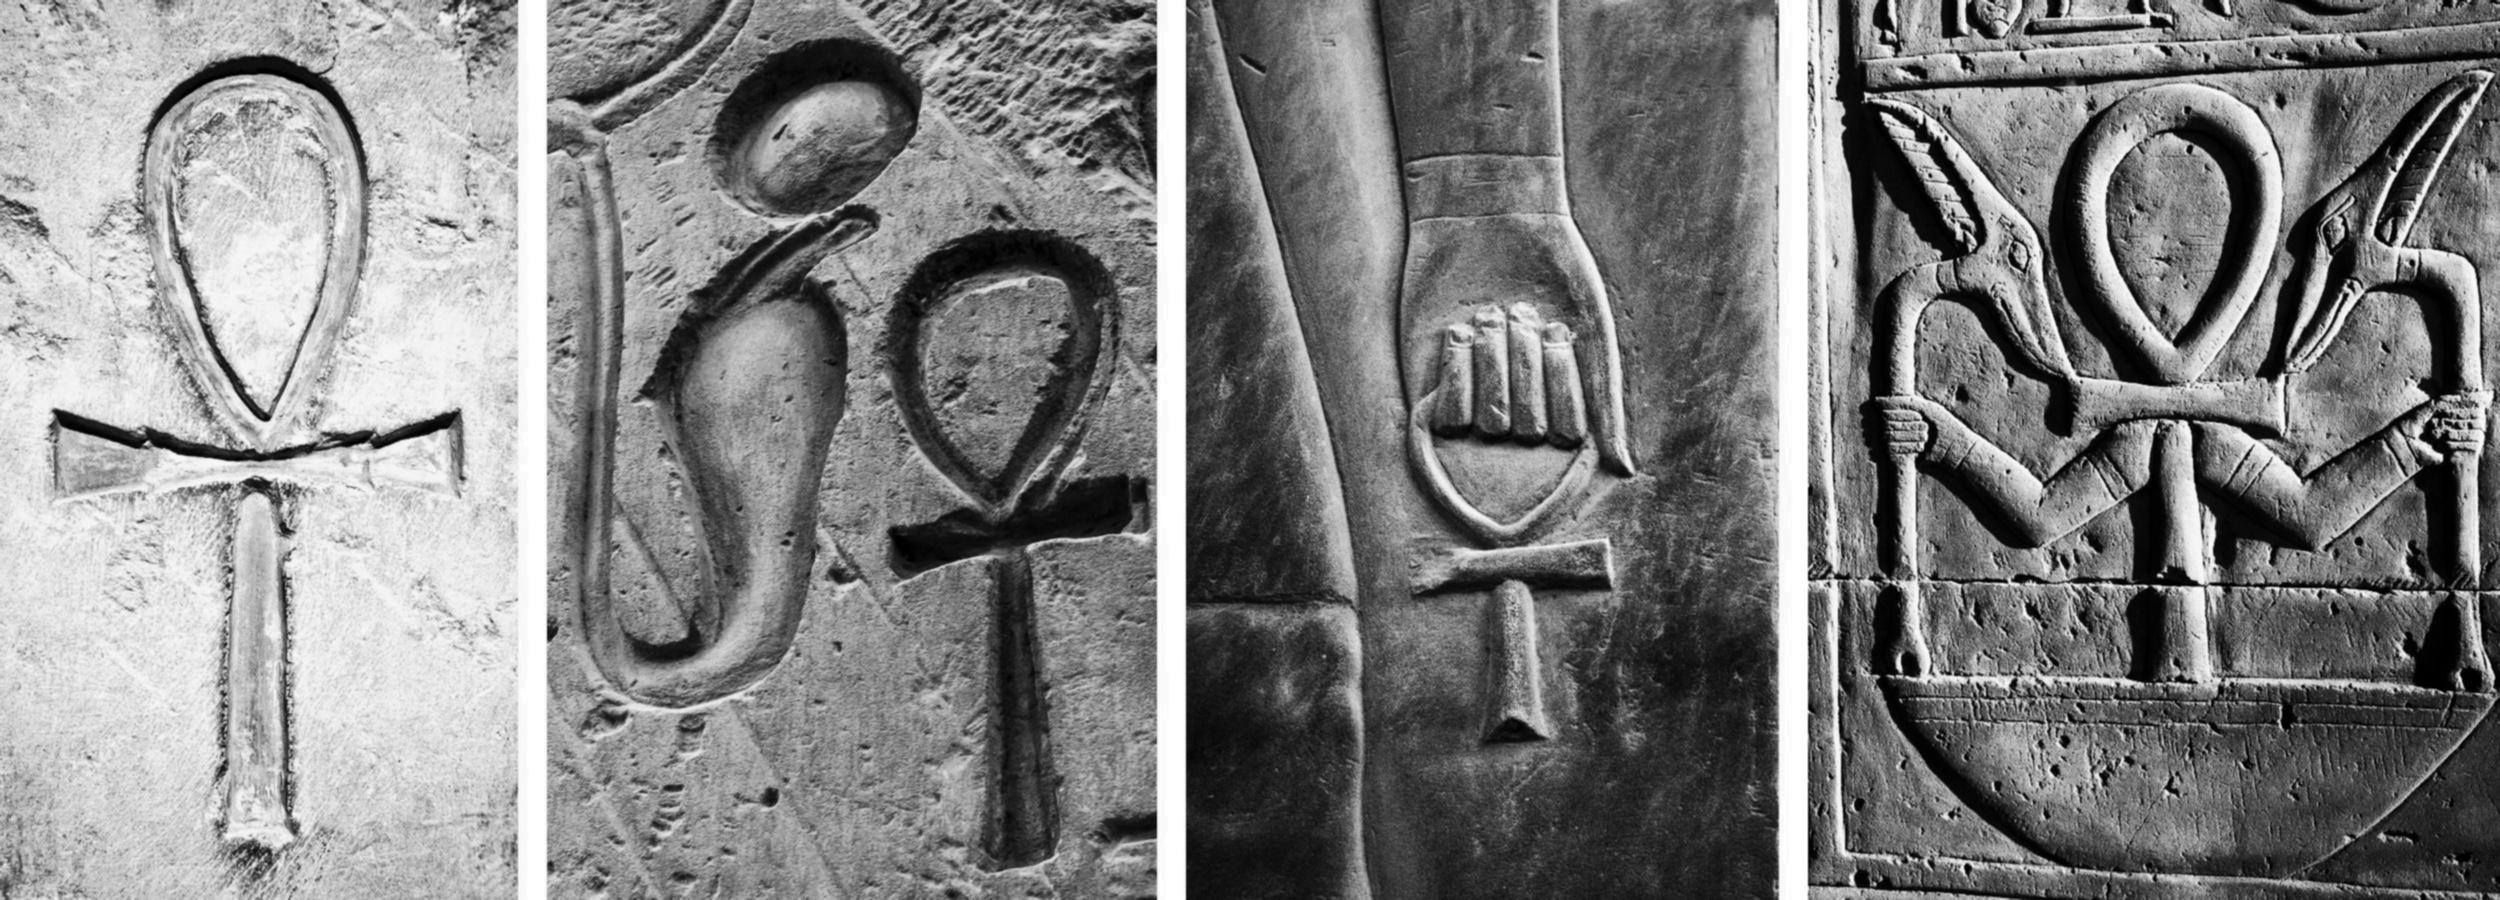Ankh: (33, 49, 497, 870), (858, 217, 1150, 871), (2044, 77, 2293, 702), (1395, 357, 1617, 753)
